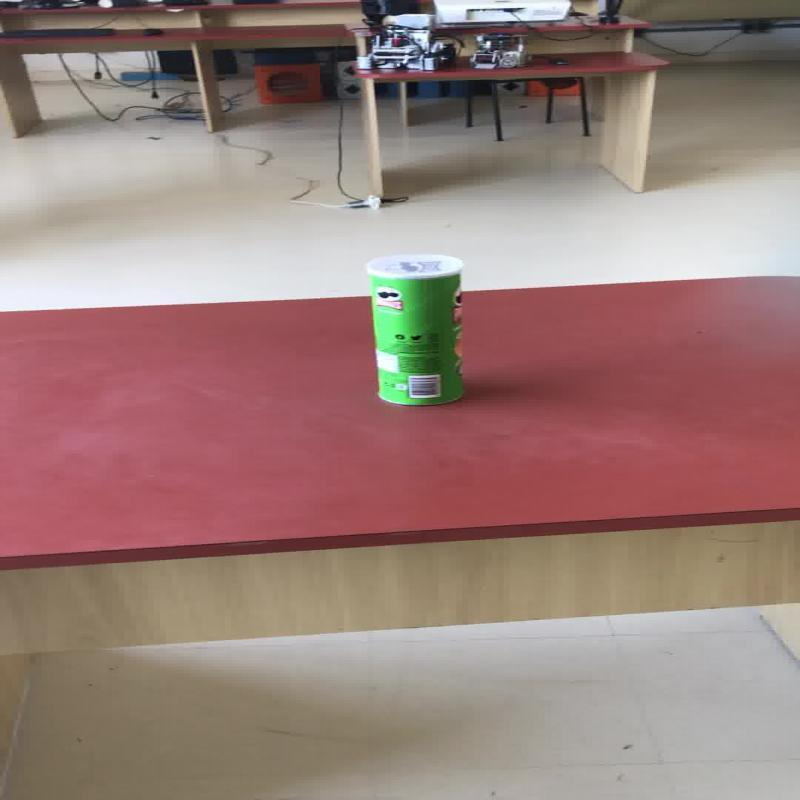pringles: (364, 252, 464, 406)
